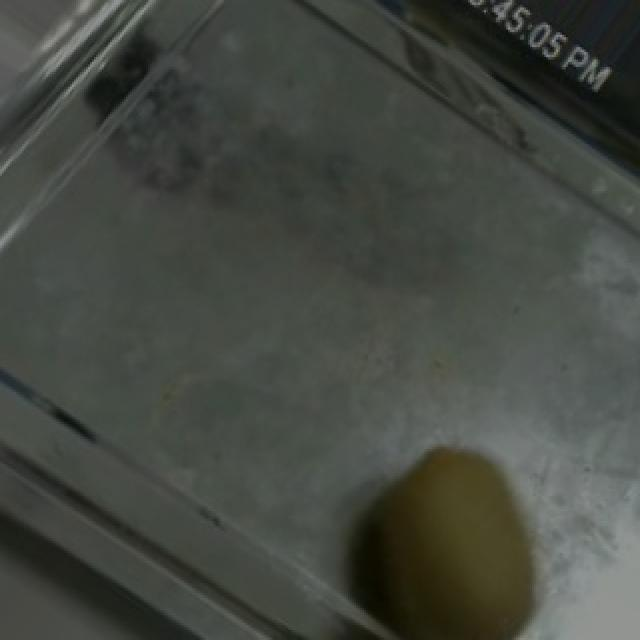Fruit: (308, 416, 572, 640)
